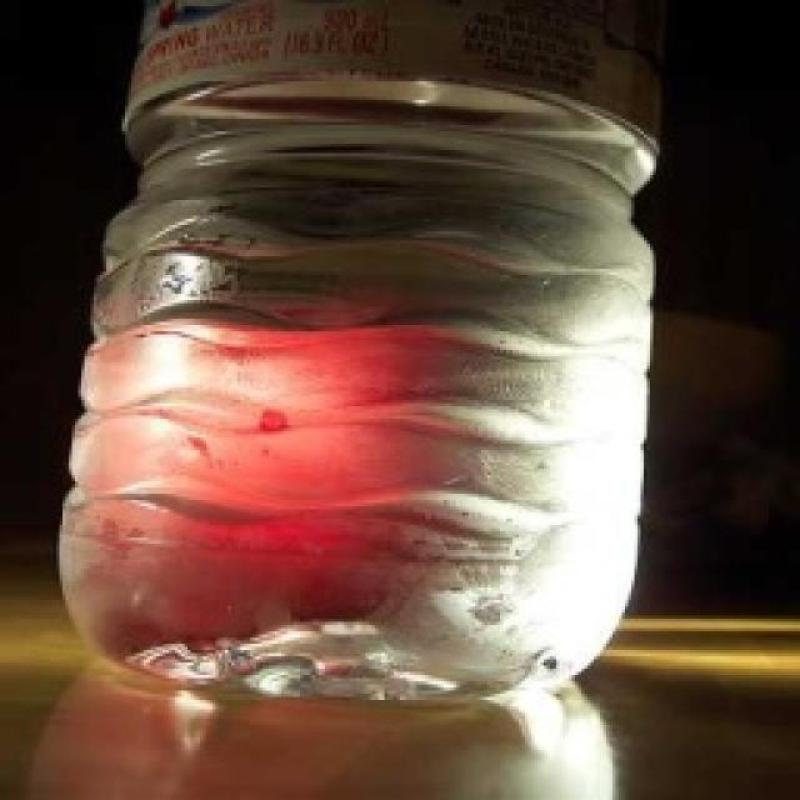botella: (51, 0, 661, 700)
